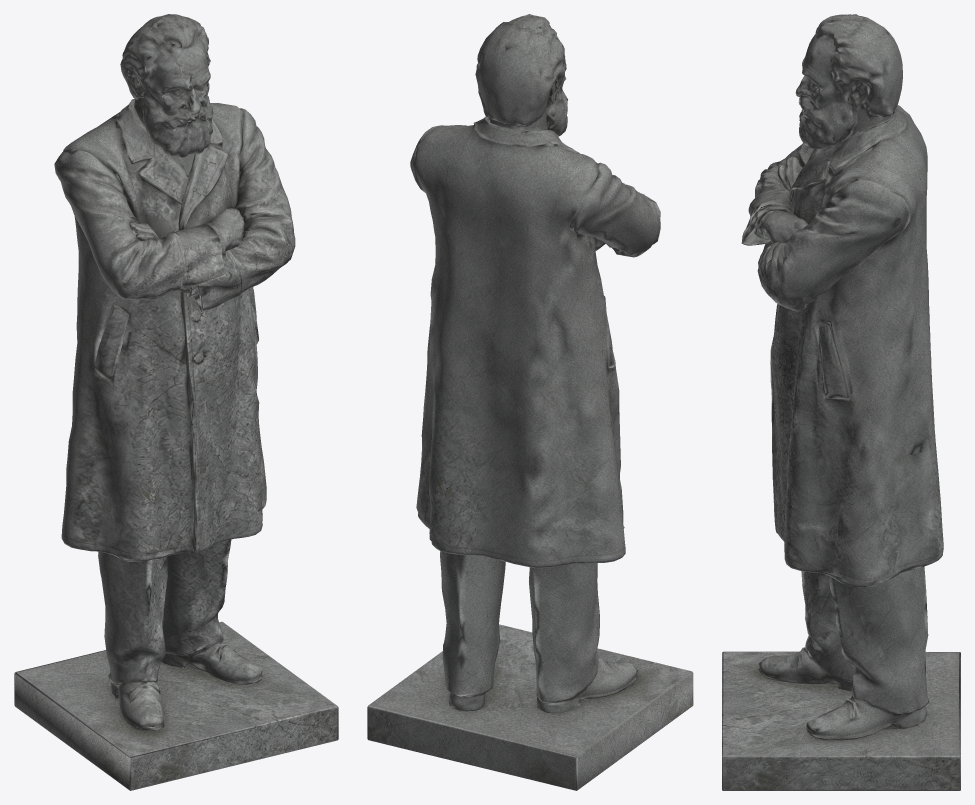
The model's file is StatuePavlov.fbx.
The picture shows the model from 3 angles, left to right: view 1: azimuth 30°, elevation 25°; view 2: azimuth 150°, elevation 25°; view 3: azimuth 270°, elevation 25°; orthographic projection. The views are drawn at different scales.
Parts seen in each view (by area): view 1: Mesh_0; view 2: Mesh_0; view 3: Mesh_0.
Boxes of the visible parts, x1,y1,x2,y2 form: Mesh_0: (14,14,338,790); Mesh_0: (367,14,693,790); Mesh_0: (722,14,960,790).
Size of the model in its own units: 29.59 by 95.02 by 28.52.
1 material, 1 textured.
